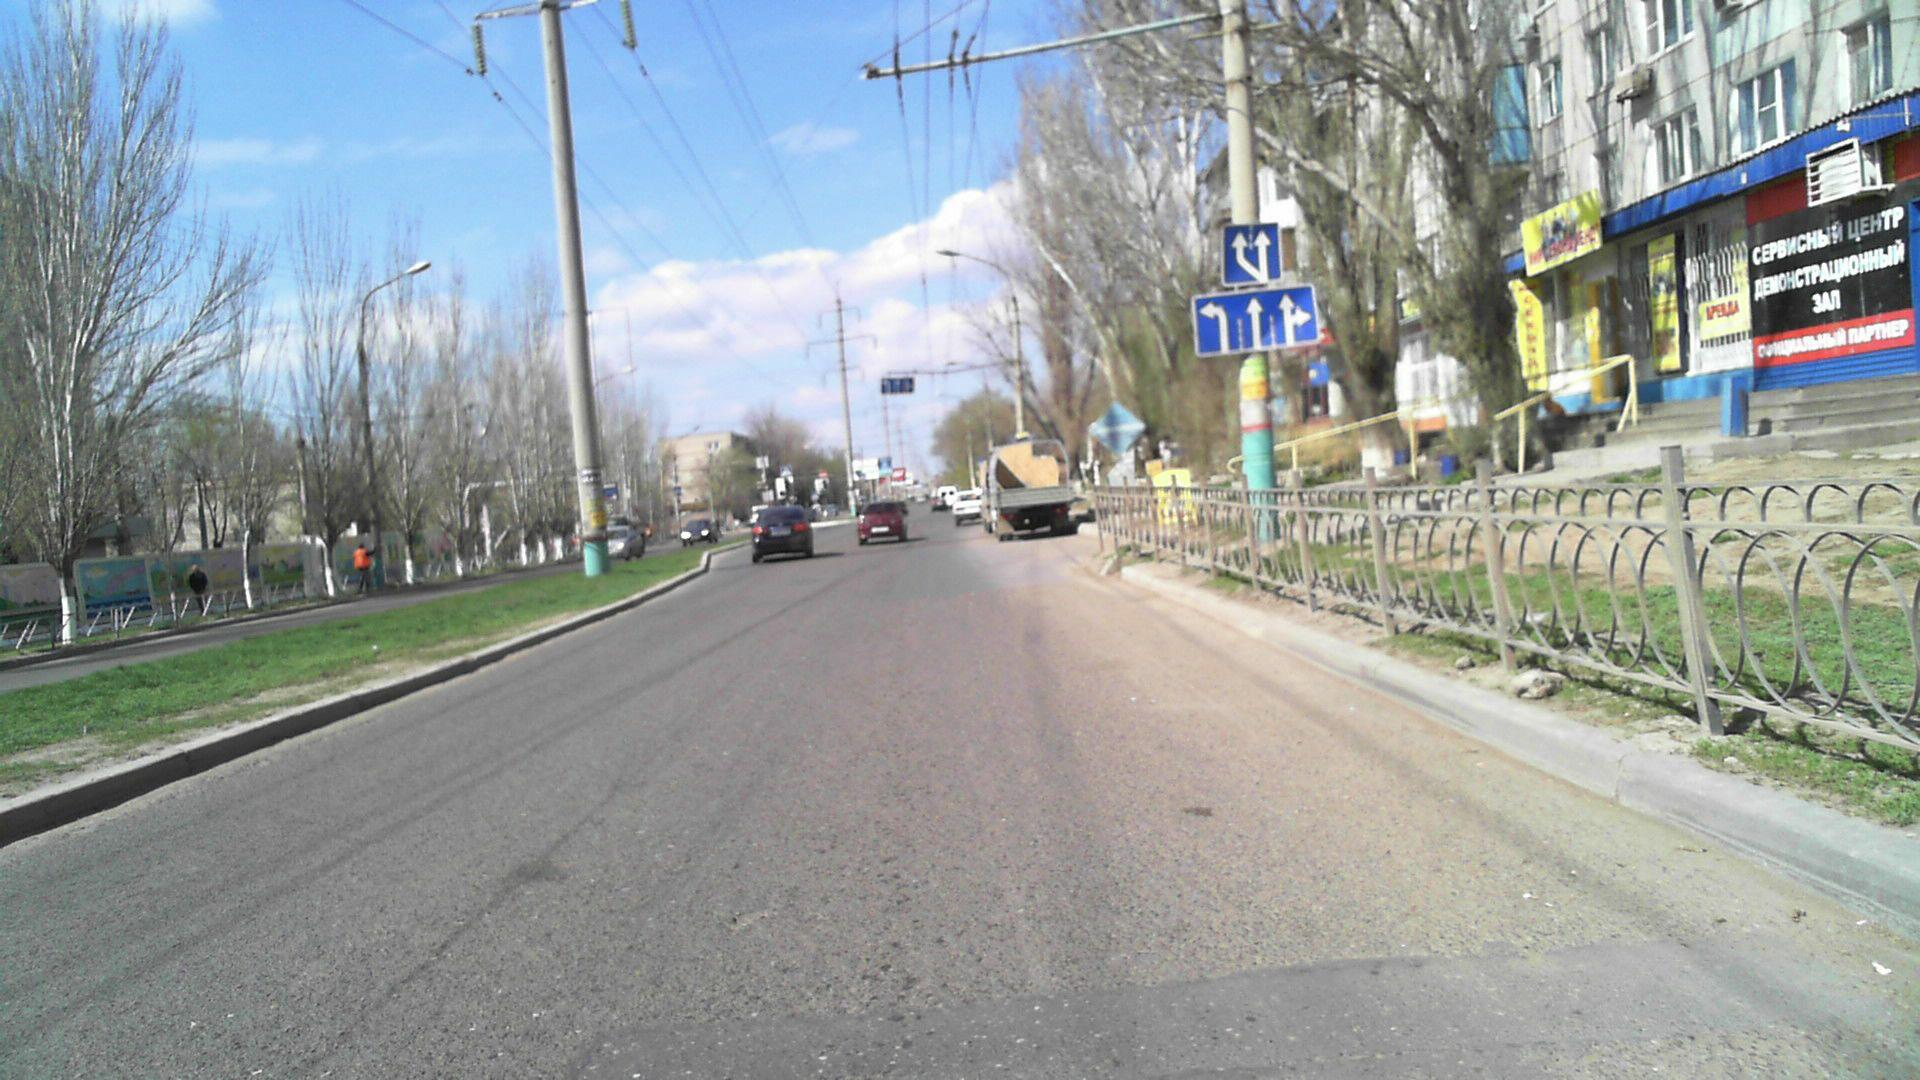5_15_1: (1188, 285, 1323, 352), (881, 375, 916, 396)
5_15_4: (1219, 223, 1282, 287)
